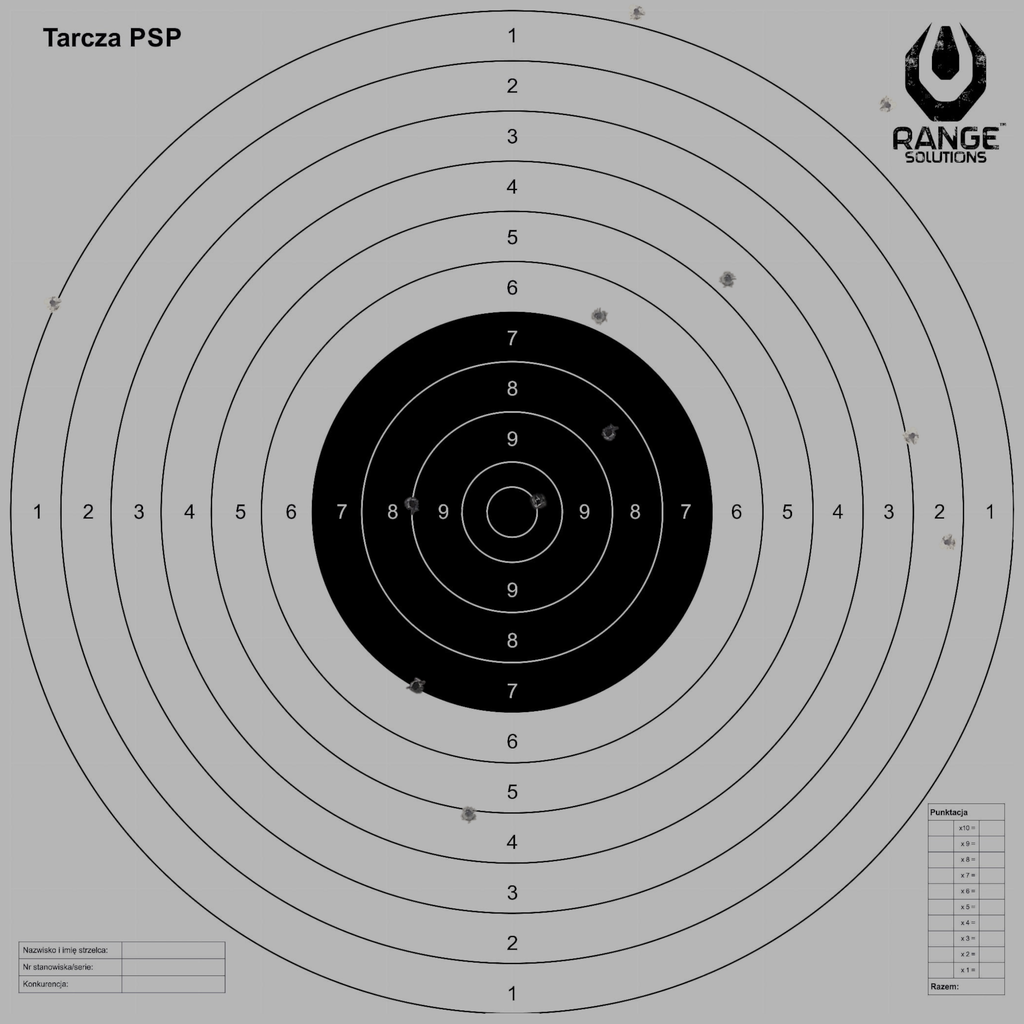0 punktow: (878, 96, 896, 114)
1 punkt: (44, 294, 62, 312)
10 punktow: (529, 493, 547, 512)
2 punkty: (938, 533, 957, 551)
3 punkty: (903, 427, 921, 446)
4 punkty: (719, 270, 737, 288)
5 punktow: (459, 804, 478, 823)
6 punktow: (590, 307, 608, 325)
7 punktow: (407, 676, 425, 695)
8 punktow: (600, 423, 618, 442)
9 punktow: (403, 495, 422, 514)
